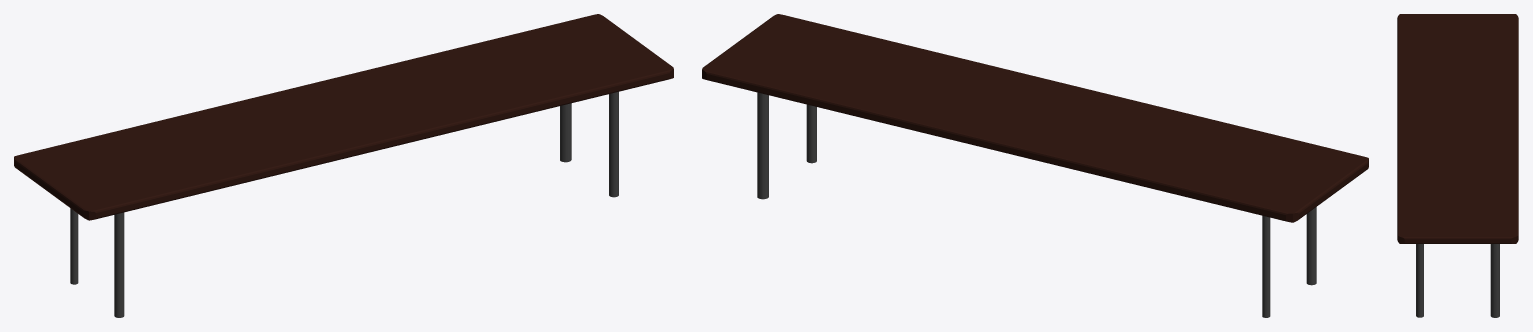
File: table.obj
3 views of the same model, side by side, from view 1: azimuth 30°, elevation 25°; view 2: azimuth 150°, elevation 25°; view 3: azimuth 270°, elevation 25° (orthographic). The views are drawn at different scales.
Visible parts, largest first — view 1: Table; view 2: Table; view 3: Table.
Part boxes in pixels (left/top/right/bottom): Table: left=14, top=14, right=673, bottom=317; Table: left=702, top=14, right=1368, bottom=317; Table: left=1397, top=14, right=1518, bottom=317.
Size of the model in its own units: 16.11 by 3.25 by 3.68.
